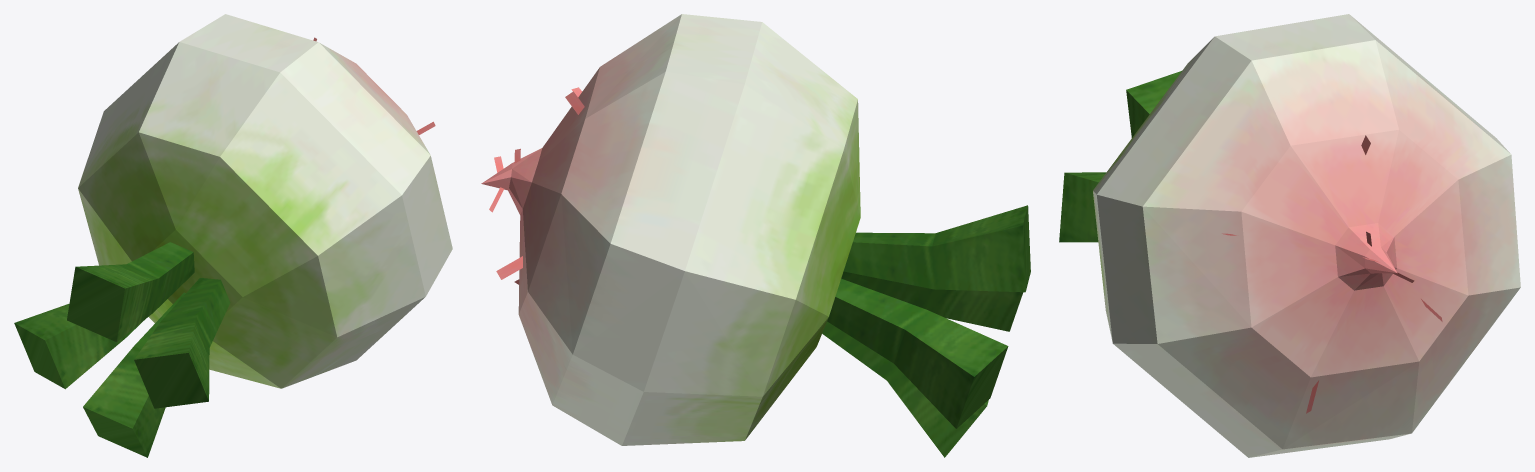
File: tx_shucai_trace1.obj
3 views of the same model, side by side, from view 1: azimuth 30°, elevation 25°; view 2: azimuth 150°, elevation 25°; view 3: azimuth 270°, elevation 25° (orthographic). The views are drawn at different scales.
Visible parts, largest first — view 1: Plane01; view 2: Plane01; view 3: Plane01.
Part boxes in pixels (bbox=[...]): Plane01: bbox=[14, 14, 452, 457]; Plane01: bbox=[481, 14, 1030, 457]; Plane01: bbox=[1059, 14, 1520, 457].
Size of the model in its own units: 21.29 by 17.44 by 18.4.
Materials: 1 (1 with a texture image).
